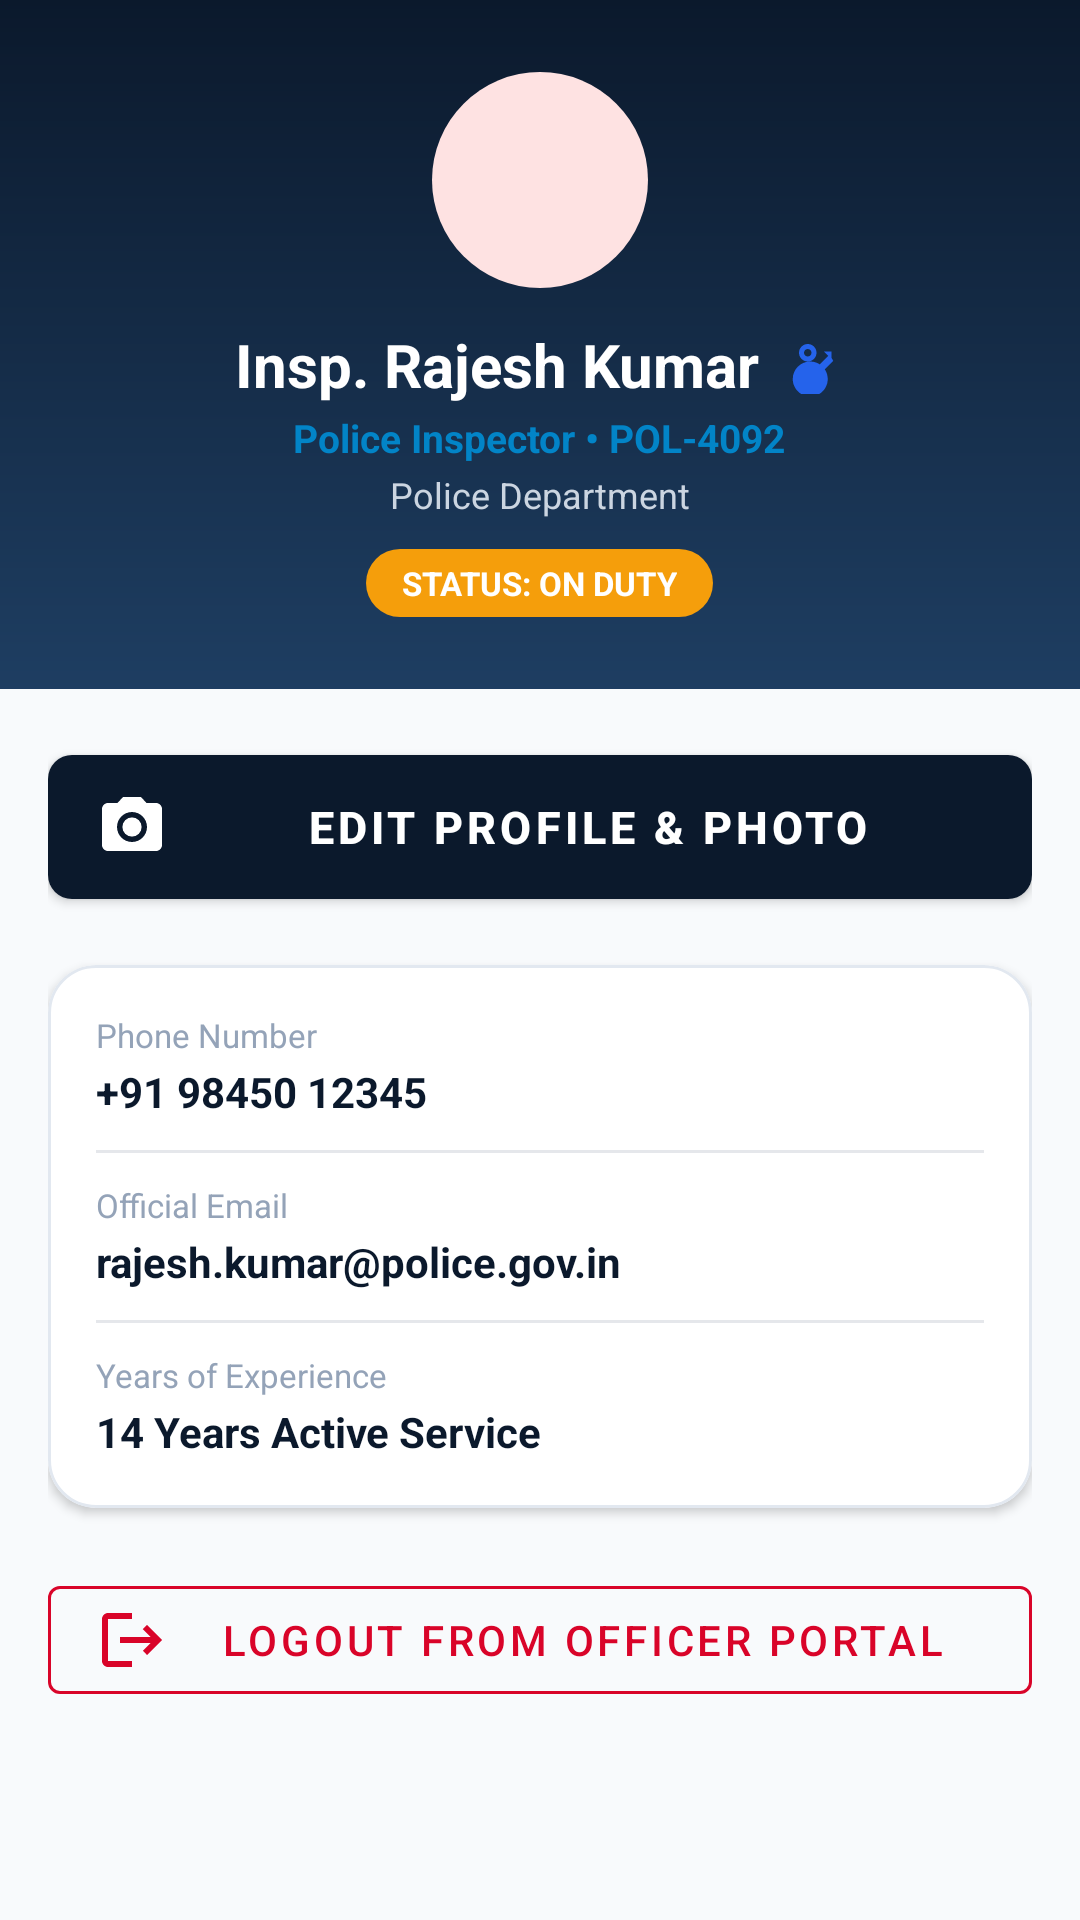

Where icons sit on this 1080px×1920px app screen, as detection(x1, y1, x2, y2):
gender male: detection(792, 344, 833, 394)
